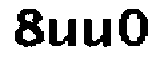0: (117, 3, 152, 53)
8: (11, 4, 46, 50)
u: (80, 13, 114, 50), (45, 14, 78, 50)
